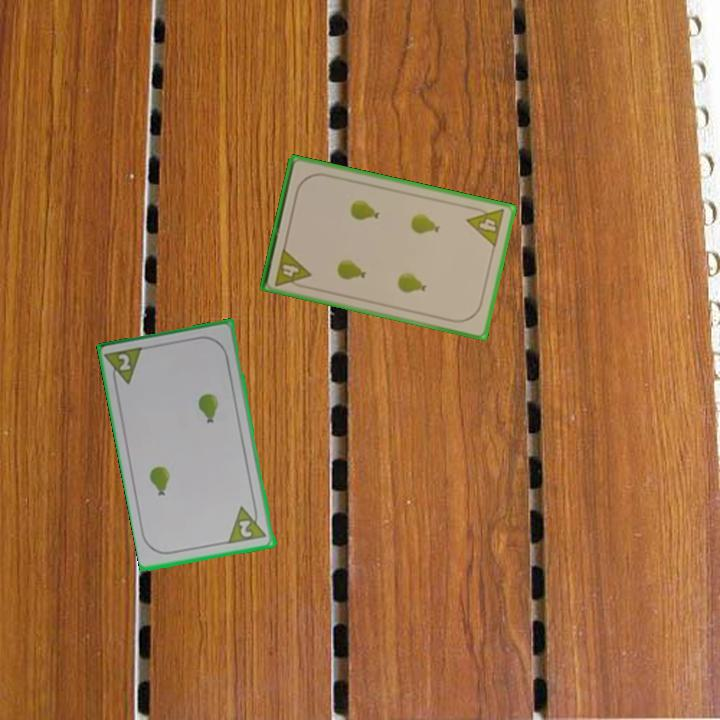2p: (103, 343, 147, 391), (226, 501, 270, 547)
4p: (463, 202, 508, 250), (271, 244, 313, 291)
